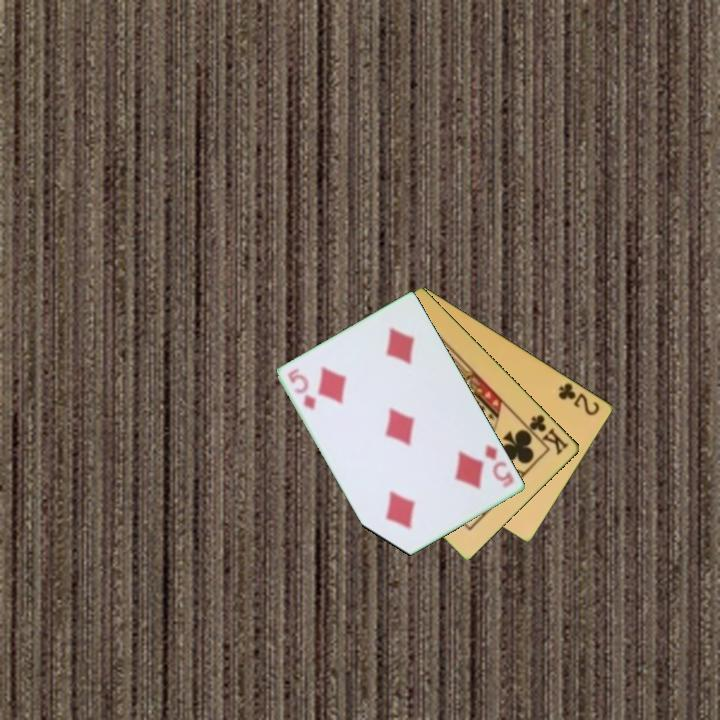2c: (555, 379, 603, 419)
5d: (482, 440, 516, 491), (285, 365, 320, 413)
Kc: (520, 411, 572, 458)
